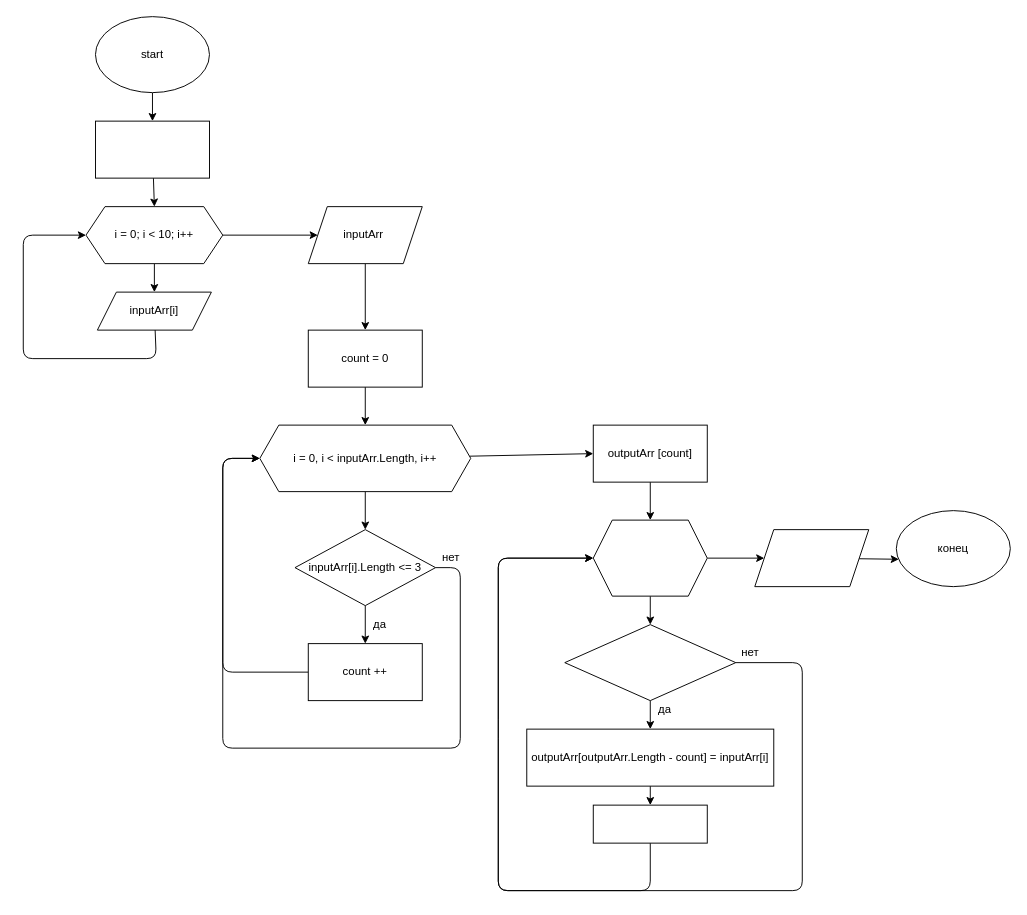
This 1027x915 diagram has some shape labels left out. The shapes that lost their labels are listed below. From the top down, each one's centre as x and y in pixels, then its label:
point (152, 149): inputArr [10]
point (649, 557): i = 0; i < count, i++
point (811, 558): outputArr
point (650, 662): inputArr[i] <= 3
point (649, 823): count --
